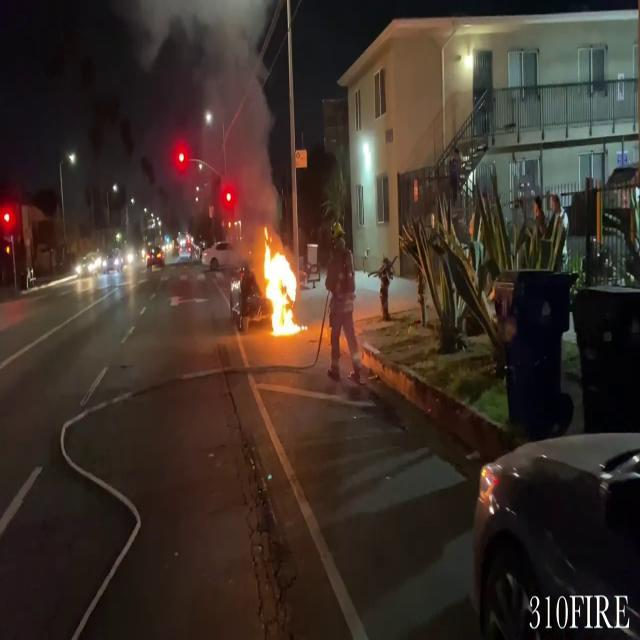Fire: (257, 229, 303, 336)
Smoke: (134, 0, 283, 213)
